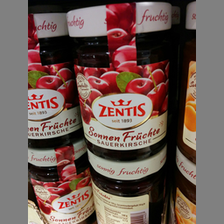jam: (66, 1, 172, 160), (28, 1, 83, 147), (86, 148, 168, 224), (28, 142, 93, 223)
